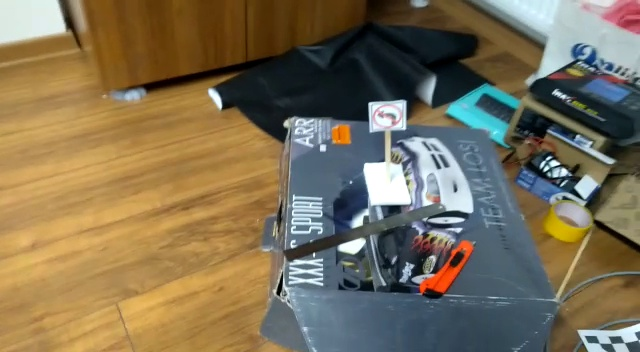sola_donulmez: (370, 101, 405, 133)
